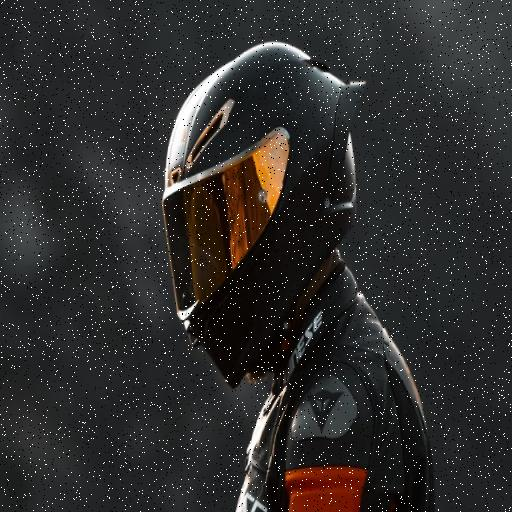Helmet: (163, 43, 363, 387)
